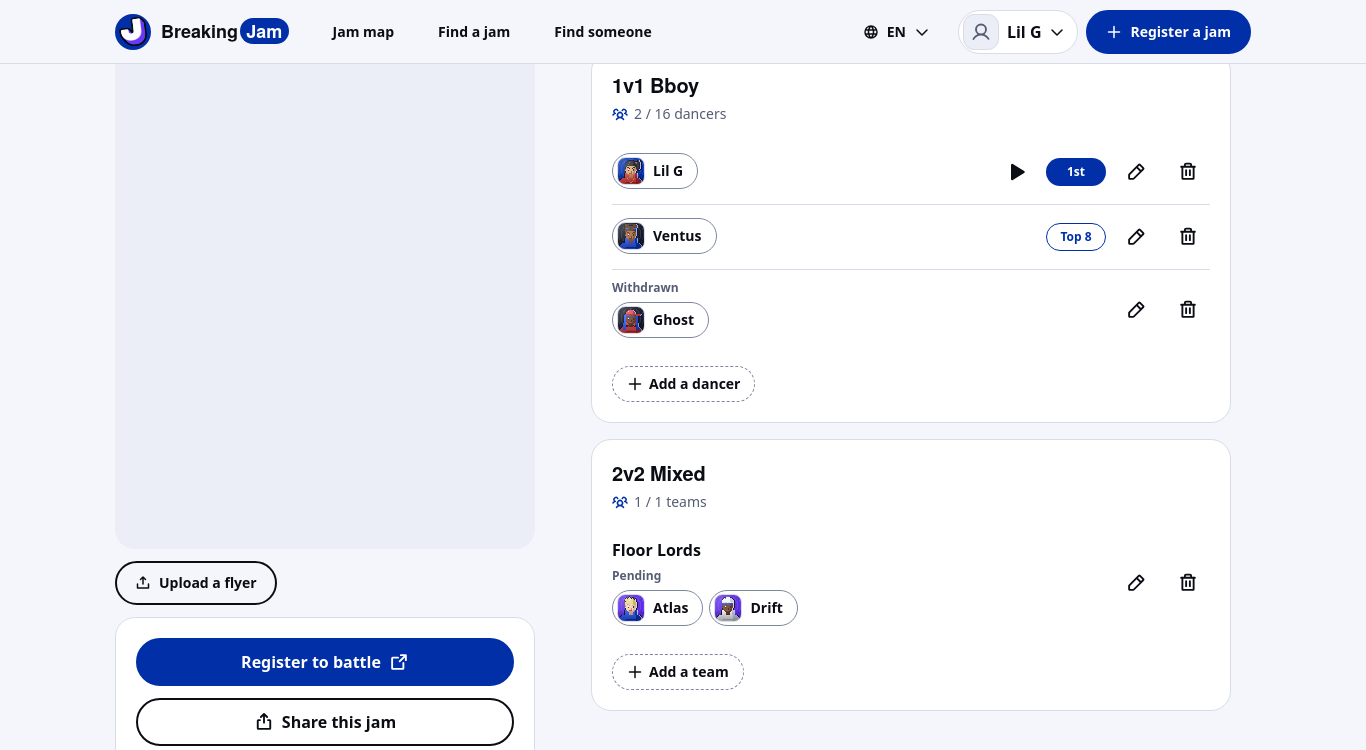
Test: JamPage › lets its organiser add a dancer, created only after a search
The image size is (1366, 750).
(page scrolled)
Check: the text "Withdrawn" is shown, box [612,279,679,296]
Click the button "Add a dancer" at (684, 384), box [612,366,756,402]
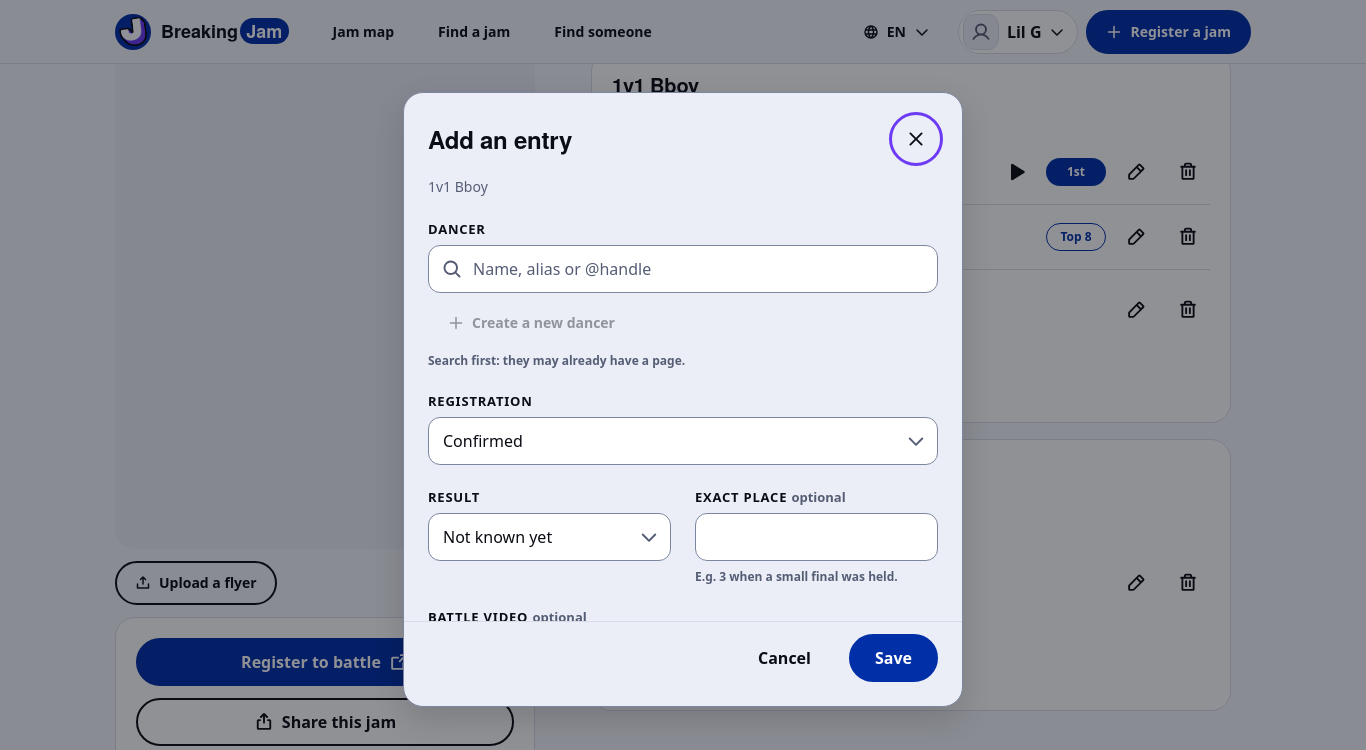
Check: the button "Create a new dancer" is disabled, box [428,301,635,345]
Type "Lil" into the search field labelled "Dancer" at (683, 269), box [428,245,938,293]
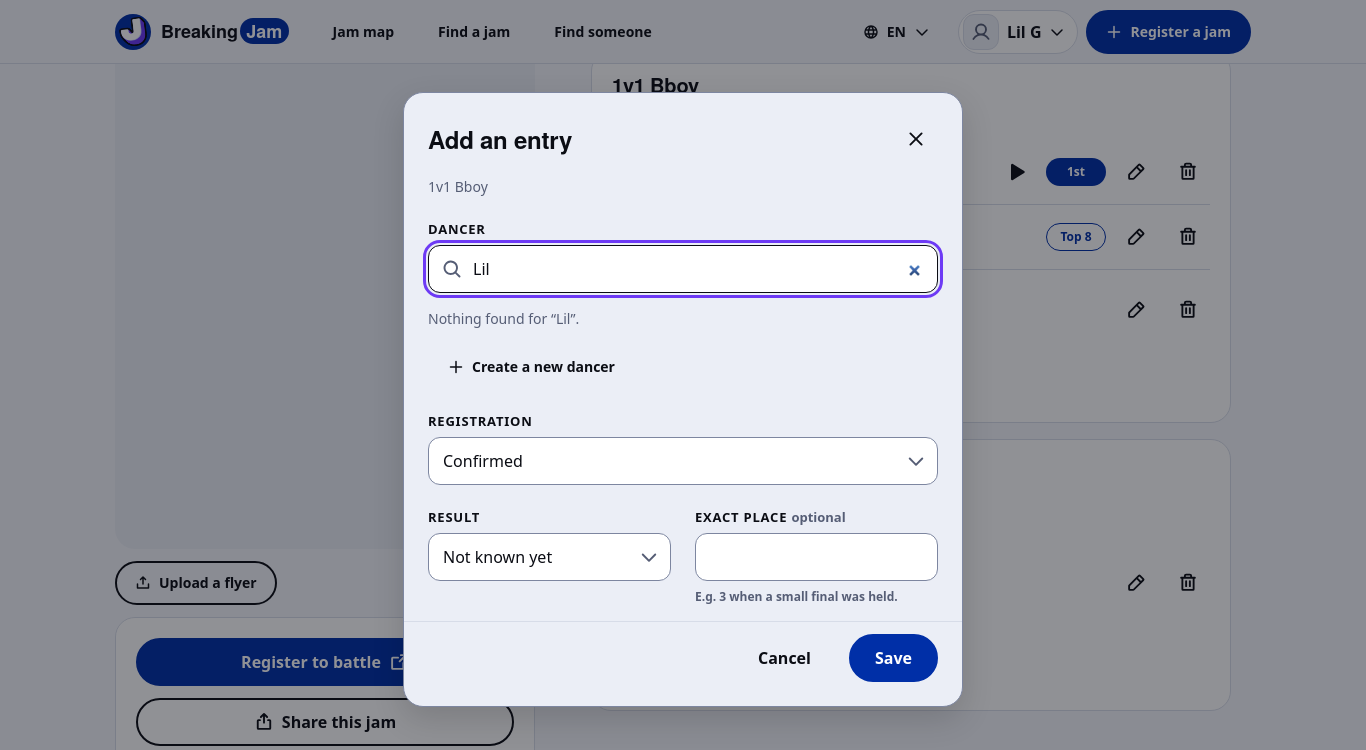
Check: the list item "Nothing found for “Lil”." is shown, box [428,309,579,328]
Click the button "Create a new dancer" at (532, 367), box [428,345,635,389]
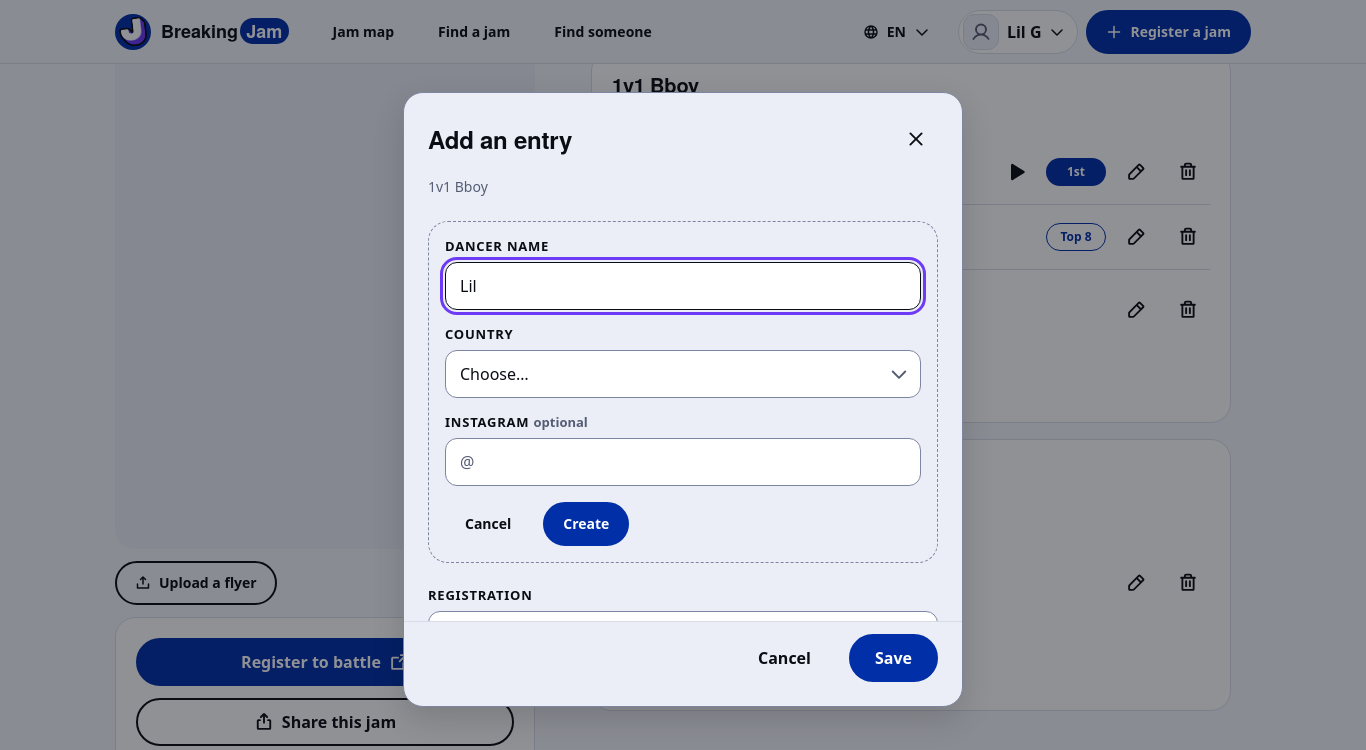
Check: the field labelled "Dancer name" holds "Lil"
Type " Nova" into the field labelled "Dancer name" at (683, 286), box [445,262,921,310]
Select "France" in the dropdown labelled "Country" at (683, 374), box [445,350,921,398]
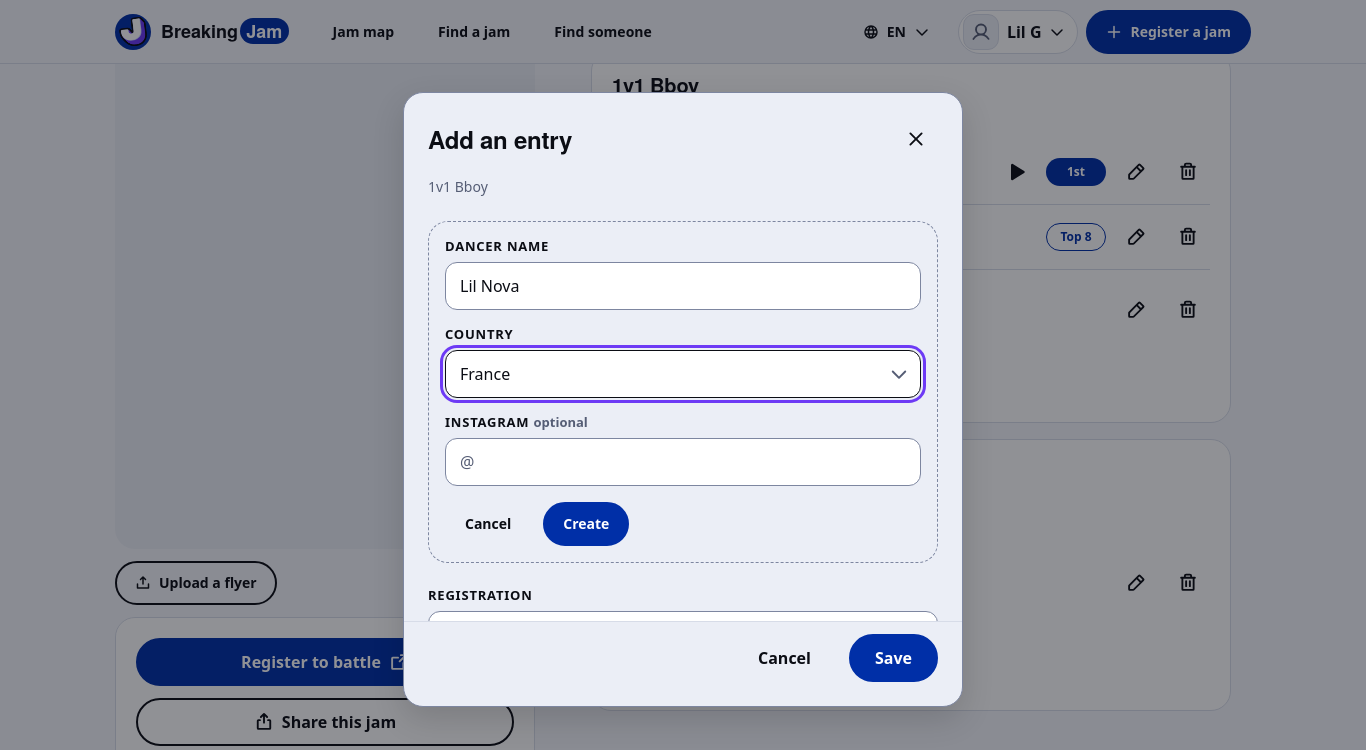
Click the button "Create" at (586, 524), box [543,502,629,546]
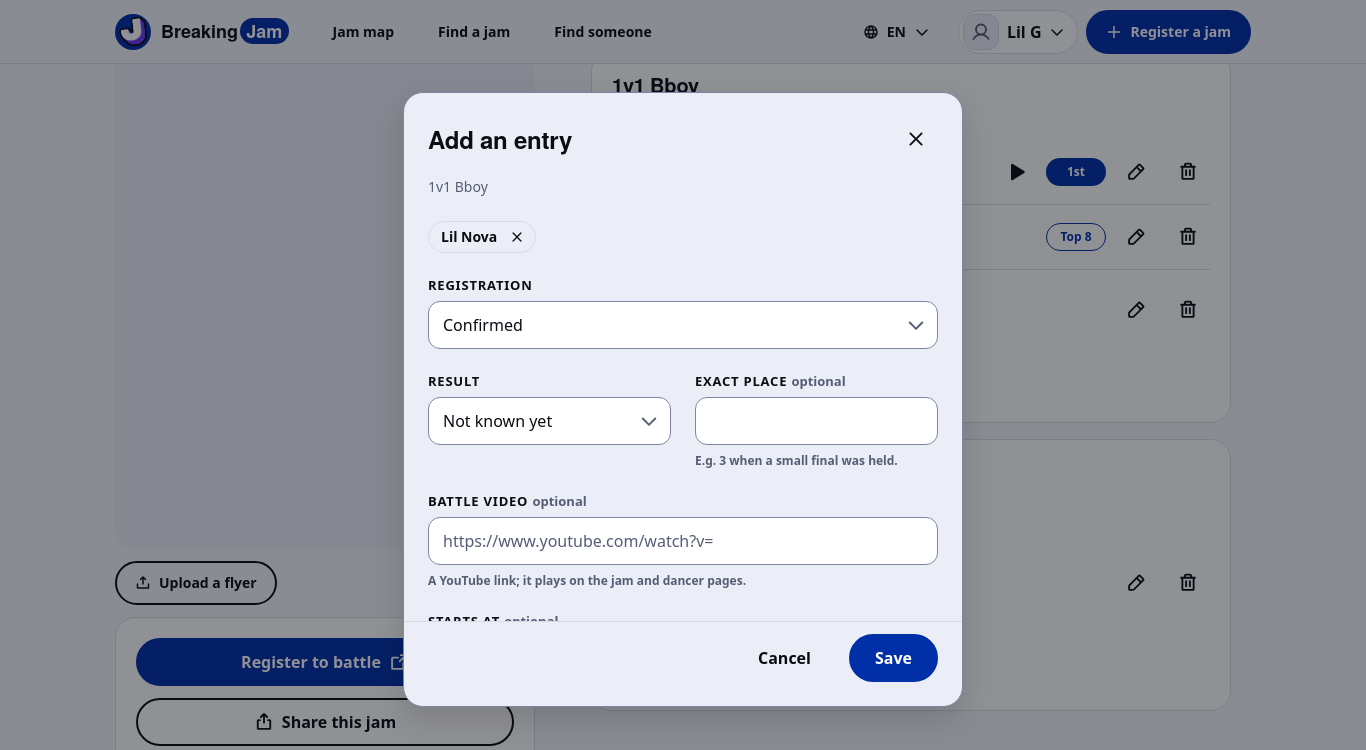
Check: the button named "Remove Lil Nova" is shown, box [503,223,531,251]
Click the button "Save" at (894, 658), box [849,634,938,682]
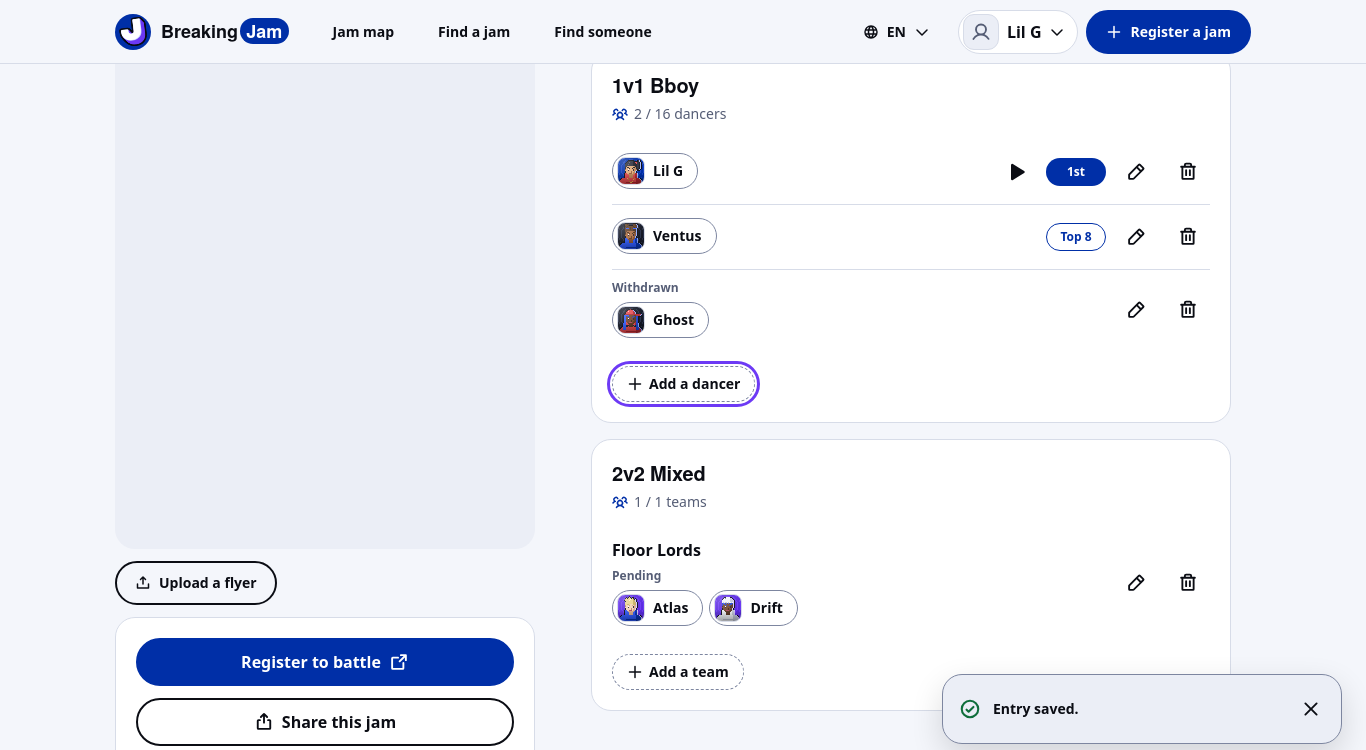
Check: the text "Entry saved." is shown, box [993,699,1079,718]
